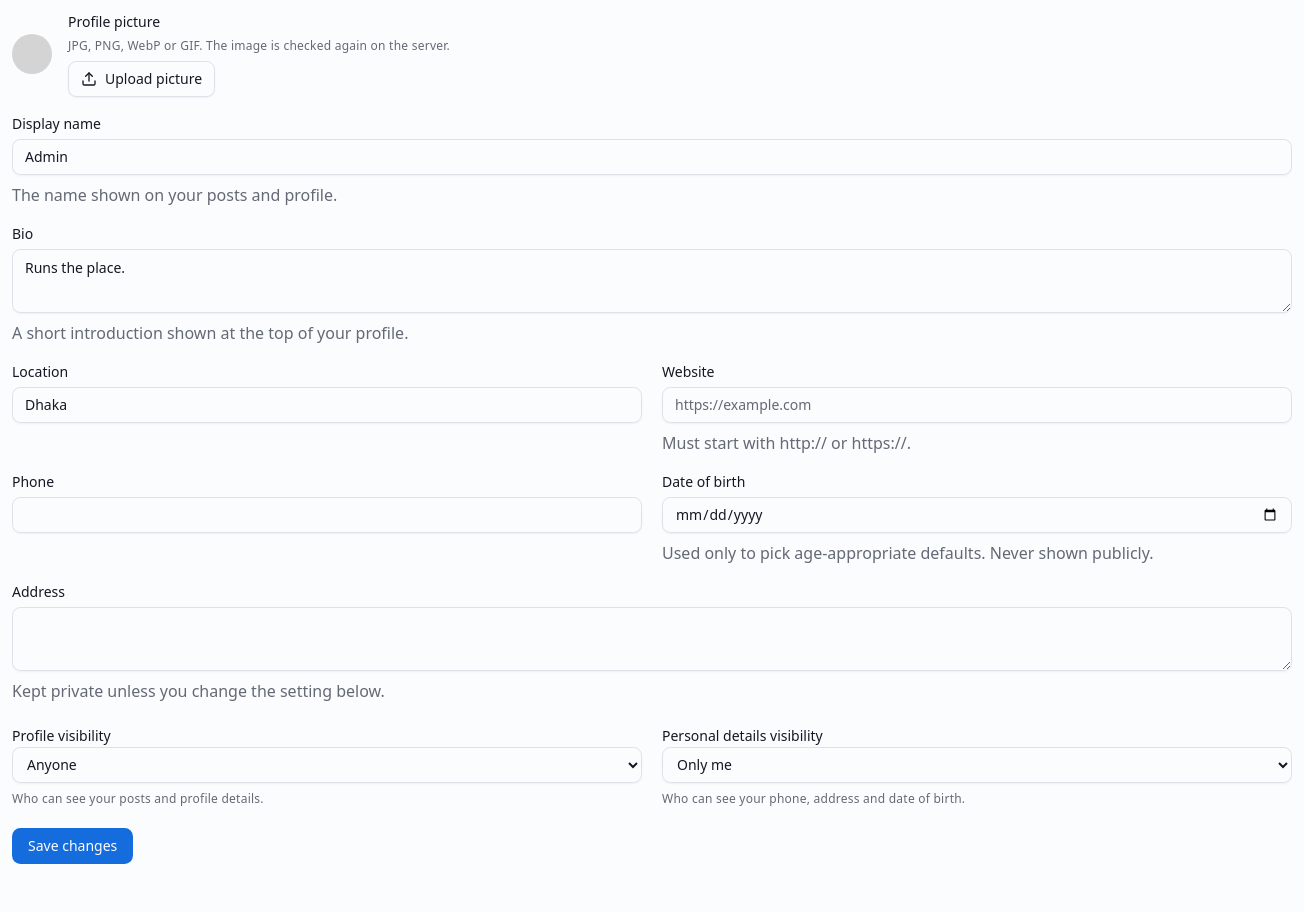
it: ProfileForm › refuses a non-http website before it reaches the API
The image size is (1304, 912).
Type "javascript:alert(1)" into the field labelled "Website".
click(977, 405); type("javascript:alert(1)")  # box x1=662 y1=387 x2=1292 y2=423
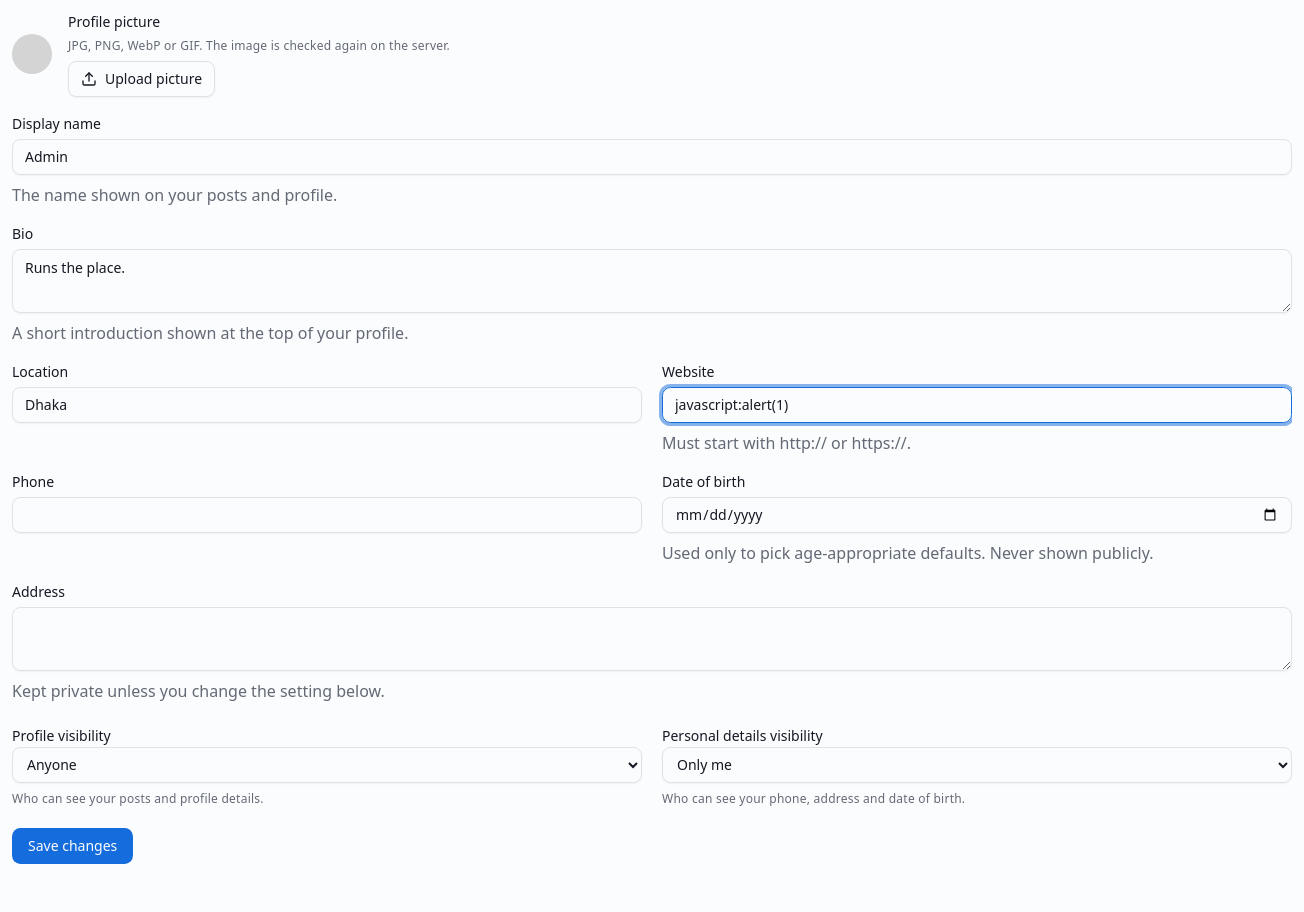
Click the button "Save changes".
click(73, 846)  # box x1=12 y1=828 x2=133 y2=864
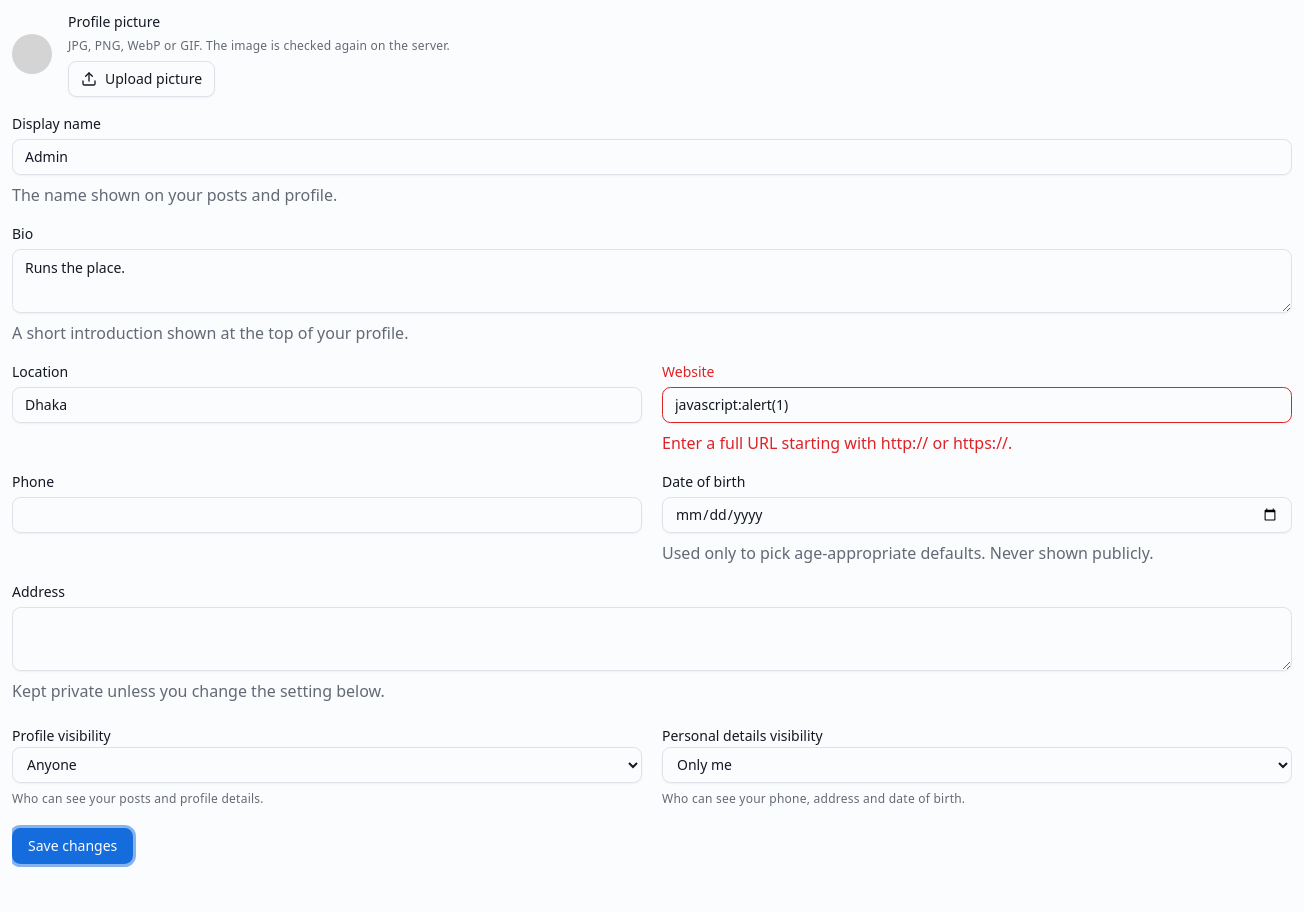
Now the text "Enter a full URL starting with http:// or https://." is shown, box x1=662 y1=432 x2=1012 y2=454
